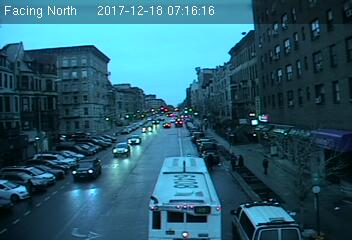bus: (148, 155, 222, 240)
car: (70, 157, 103, 179), (111, 142, 129, 154), (127, 134, 142, 145)
pedestrian: (236, 153, 245, 172), (262, 155, 270, 176)
police: (231, 198, 302, 240)
